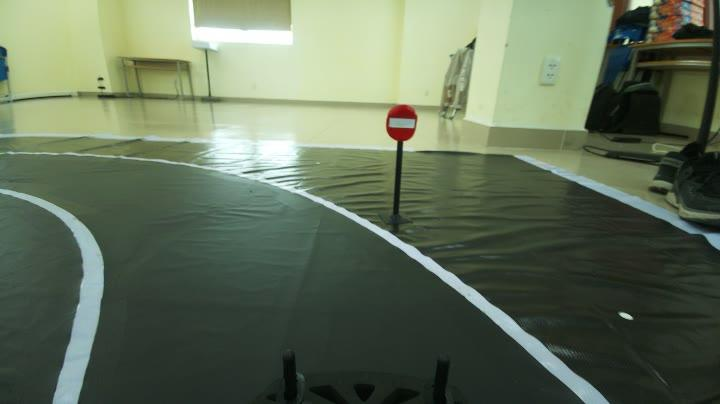no_entry: (383, 102, 421, 144)
